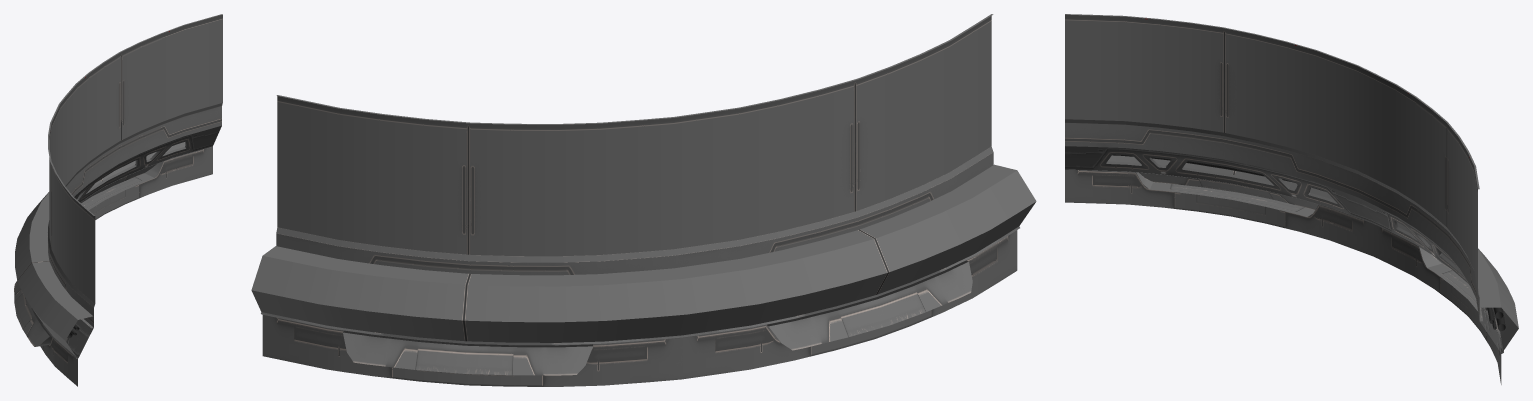
The model's file is top_cables_corner_round_inner.glb.
3 renders of one model, left to right at view 1: azimuth 30°, elevation 25°; view 2: azimuth 150°, elevation 25°; view 3: azimuth 270°, elevation 25°, orthographic. The views are drawn at different scales.
Parts seen in each view (by area): view 1: TopCables_Corner_Round_Inner; view 2: TopCables_Corner_Round_Inner; view 3: TopCables_Corner_Round_Inner.
Boxes of the visible parts, left/top/right/bottom form: TopCables_Corner_Round_Inner: left=14, top=14, right=222, bottom=386; TopCables_Corner_Round_Inner: left=251, top=14, right=1036, bottom=386; TopCables_Corner_Round_Inner: left=1065, top=14, right=1518, bottom=384.
Bounding box in the file's own units: 4.16 × 2 × 4.16.
4 materials, 4 textured.
